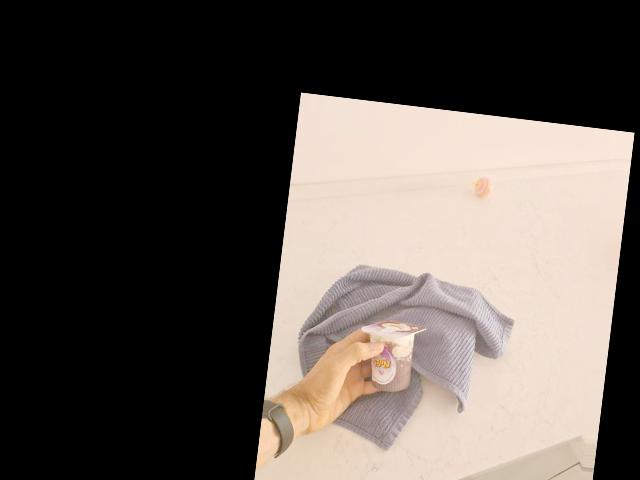milky: (358, 314, 425, 395)
